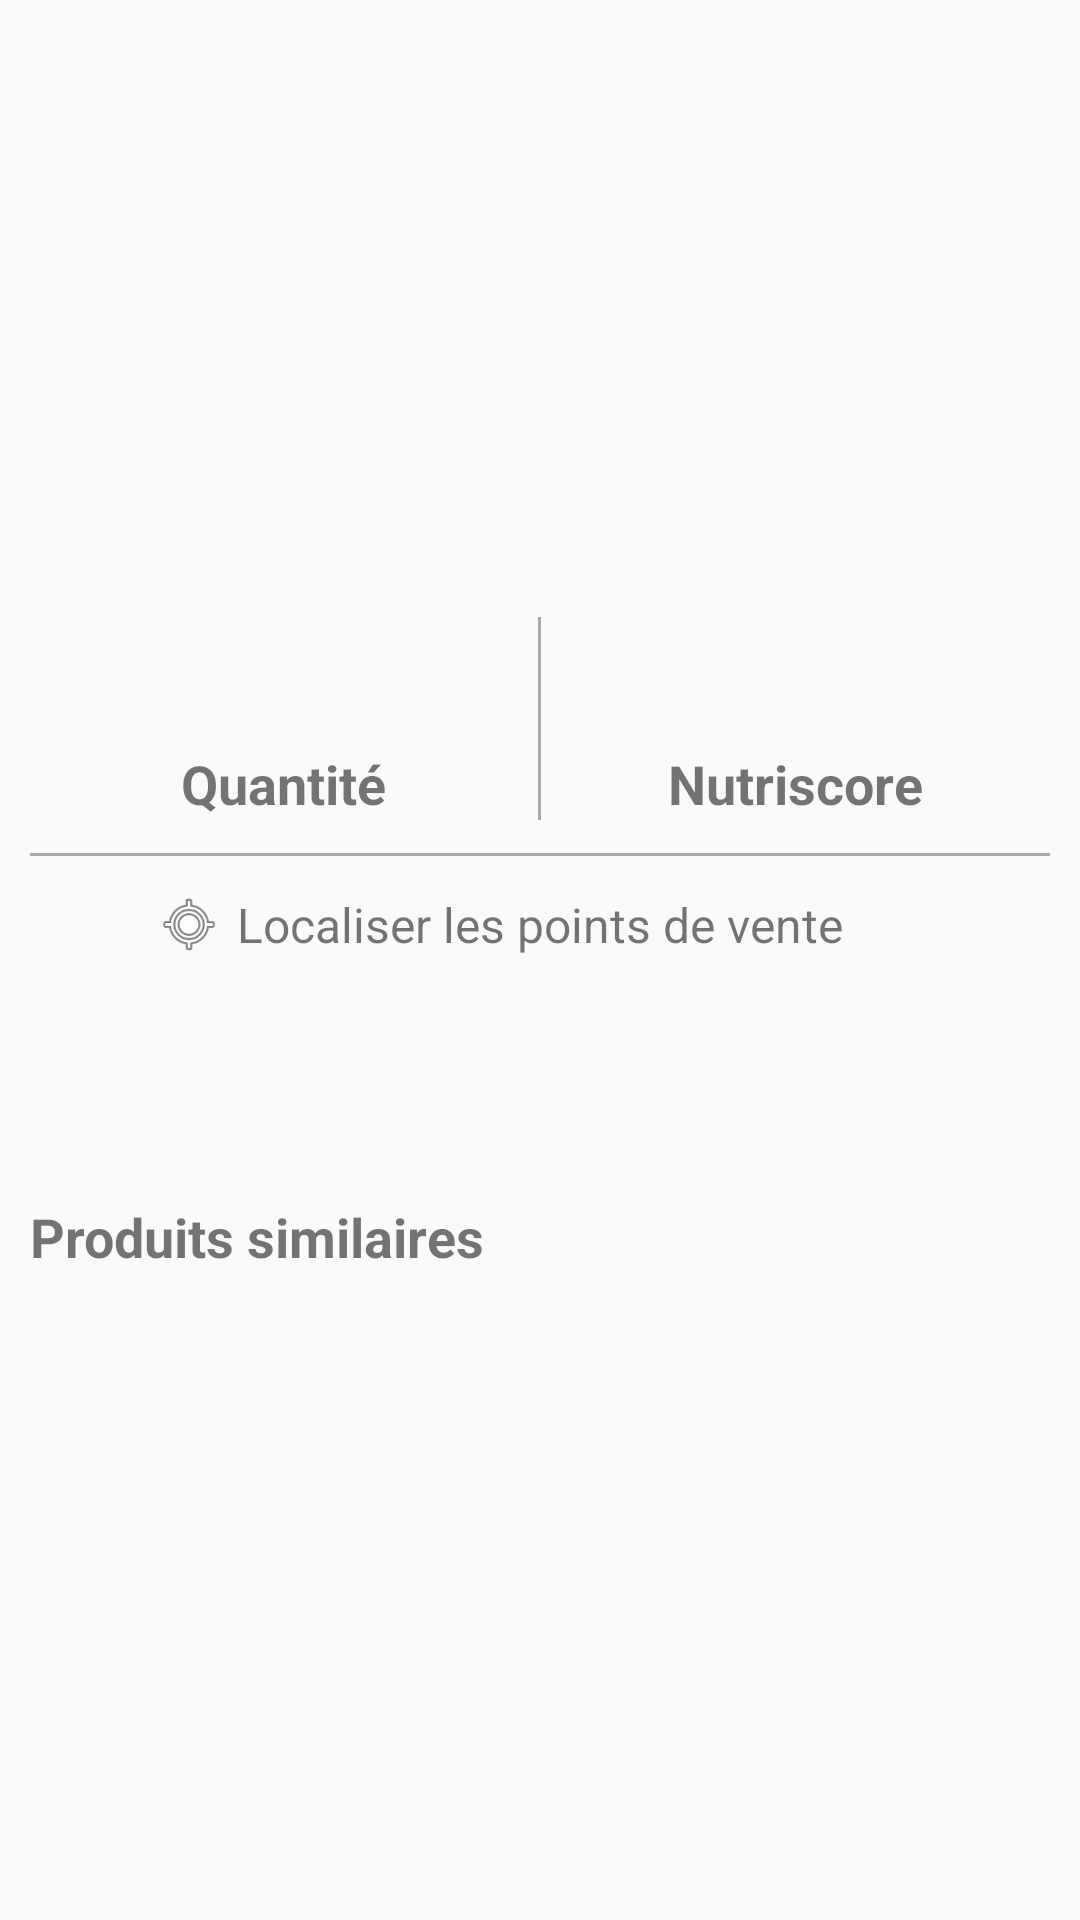

Screen size 1080 x 1920. Icon name, then its box in pixels as BBox(x1, y1, x2, y2):
mylocation: BBox(163, 898, 215, 951)
